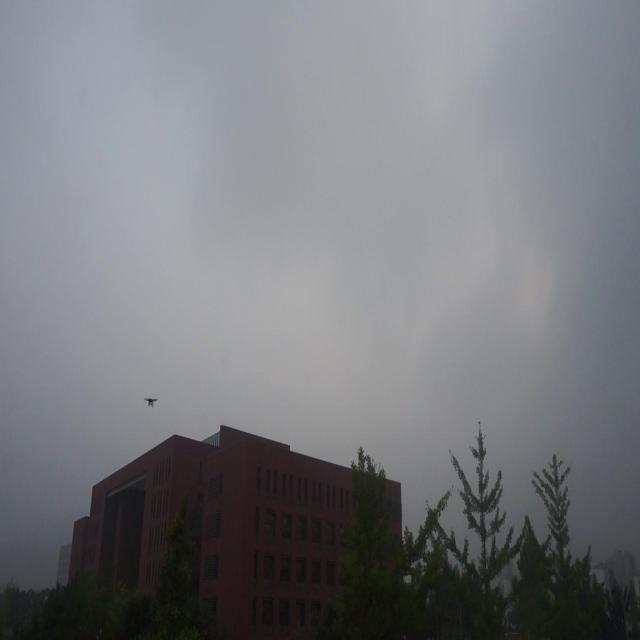drone: (142, 393, 160, 409)
